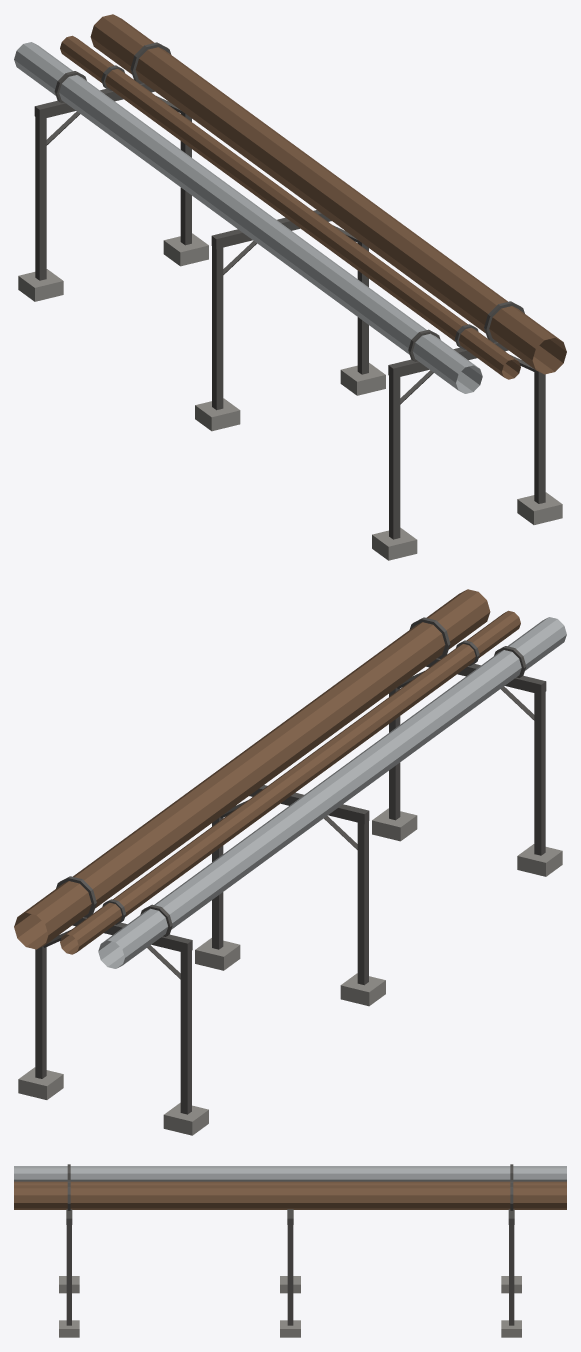
File: Scenery_PipeRack.fbx
3 views of the same model, one above another, from view 1: azimuth 30°, elevation 25°; view 2: azimuth 150°, elevation 25°; view 3: azimuth 270°, elevation 25° (orthographic). The views are drawn at different scales.
Visible parts, largest first — view 1: Scenery_PipeRack_LOD0; view 2: Scenery_PipeRack_LOD0; view 3: Scenery_PipeRack_LOD0.
Boxes of the visible parts, x1,y1,x2,y2 form: Scenery_PipeRack_LOD0: [14, 14, 566, 560]; Scenery_PipeRack_LOD0: [14, 589, 566, 1135]; Scenery_PipeRack_LOD0: [14, 1164, 566, 1337].
Size of what is drawn, in the model's own units: 4.55 by 5.51 by 20.
